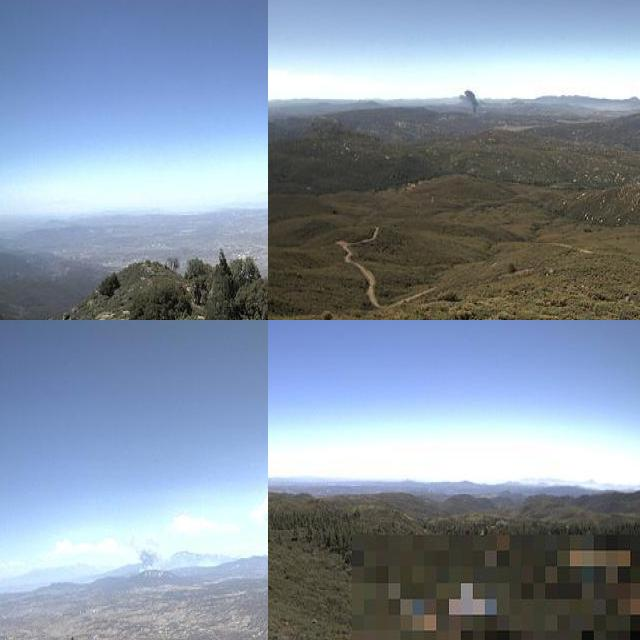smoke: (127, 538, 170, 573), (456, 83, 482, 120)
